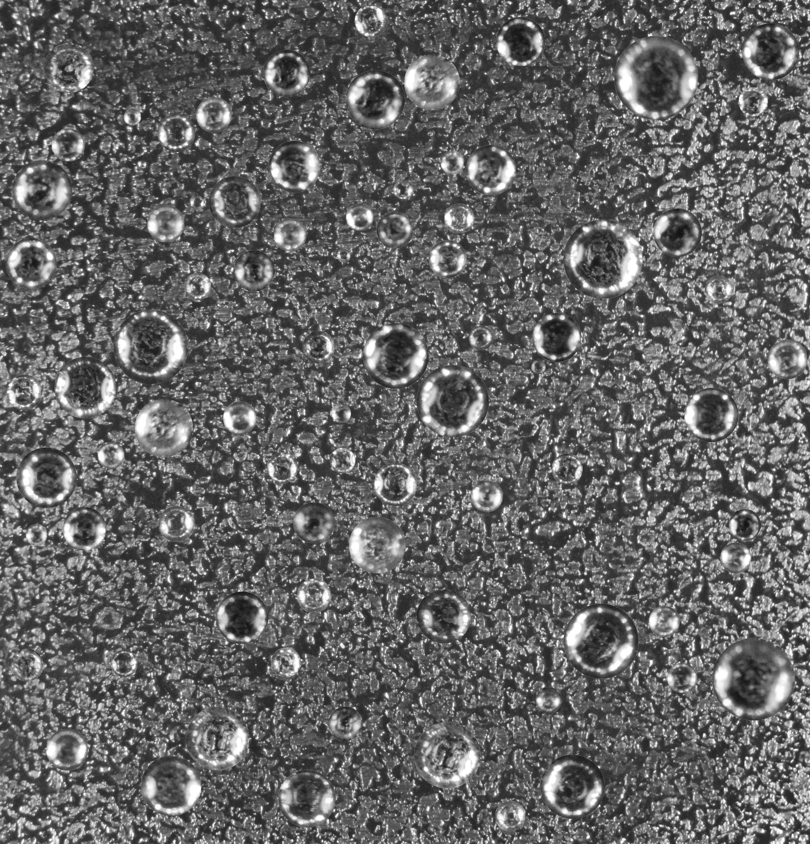Bubble: (614, 35, 698, 119), (712, 638, 794, 720), (563, 219, 642, 298), (563, 603, 638, 678), (113, 309, 188, 384), (416, 365, 488, 437), (414, 722, 480, 788), (363, 323, 428, 388), (540, 754, 604, 818), (185, 707, 249, 770), (54, 356, 116, 418), (16, 447, 76, 507), (141, 756, 201, 816), (345, 70, 404, 129), (12, 160, 71, 219), (134, 399, 192, 457), (278, 770, 335, 827), (742, 23, 799, 79), (349, 516, 405, 573), (404, 54, 459, 110), (684, 388, 738, 442), (416, 589, 470, 643), (215, 591, 268, 643), (268, 140, 320, 192), (208, 176, 260, 227), (5, 238, 56, 288), (466, 144, 516, 195), (44, 43, 93, 92), (496, 17, 545, 65), (532, 313, 581, 361), (653, 208, 701, 256), (263, 49, 310, 96), (62, 507, 106, 550), (374, 463, 416, 505), (293, 502, 334, 543), (233, 250, 274, 291), (46, 729, 87, 770), (767, 339, 807, 379), (157, 114, 195, 151), (428, 240, 466, 277), (376, 211, 413, 248), (147, 205, 184, 242), (6, 374, 42, 410), (158, 506, 194, 541), (196, 97, 231, 132), (297, 578, 331, 612), (328, 706, 362, 740), (223, 401, 256, 434), (273, 218, 306, 251), (354, 4, 387, 37), (51, 128, 84, 161), (10, 648, 43, 681), (302, 331, 334, 363), (729, 509, 760, 540), (551, 453, 582, 484), (471, 480, 502, 511), (720, 542, 751, 573), (267, 452, 297, 483), (495, 801, 525, 831), (667, 663, 697, 693), (444, 203, 474, 233), (649, 606, 679, 636), (738, 87, 768, 116), (271, 647, 300, 677), (705, 275, 732, 303), (346, 203, 373, 230), (110, 650, 137, 677), (97, 442, 124, 468), (184, 273, 211, 299), (329, 447, 355, 473), (535, 687, 561, 713), (468, 325, 493, 350), (440, 150, 463, 174), (25, 524, 47, 545), (393, 179, 413, 199), (331, 403, 350, 422), (123, 108, 140, 125), (531, 359, 545, 374), (336, 248, 350, 262), (189, 195, 203, 209)
